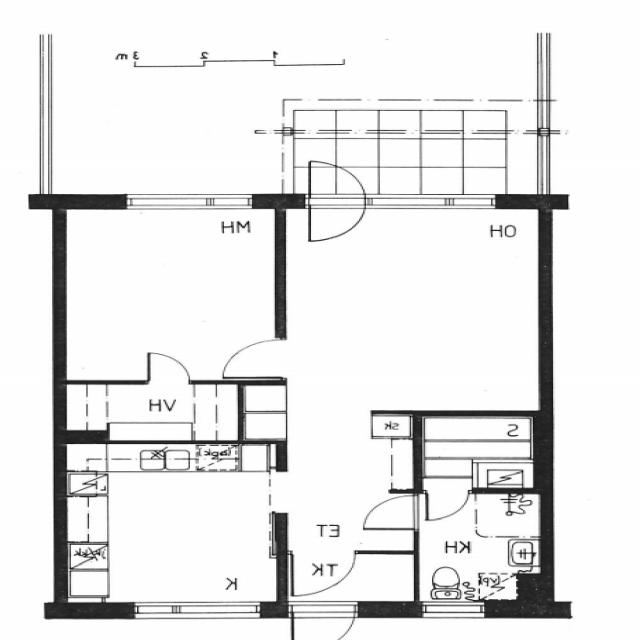door: (308, 156, 366, 209), (308, 194, 366, 246), (292, 550, 355, 594), (217, 340, 287, 378), (291, 602, 355, 640), (363, 496, 419, 528), (426, 487, 469, 521), (148, 353, 189, 385)
